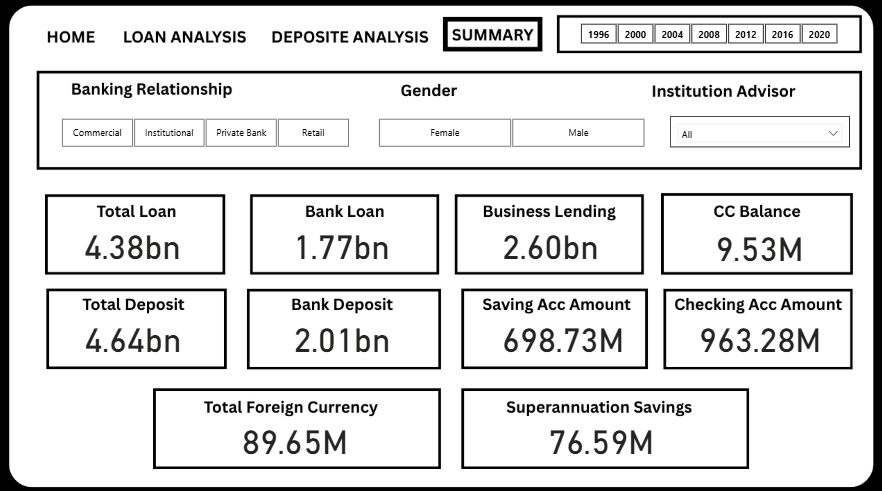

What the dashboard file says about the page in this screenshot:
{"tool":"powerbi","page":{"name":"Summary","canvas":[1280,720],"ordinal":3},"visuals":[{"type":"slicer","fields":{"Values":["Banking Relationship.Banking Relationship"]},"box":[70.6,169.9,462.5,53.8],"z":0},{"type":"slicer","fields":{"Values":["Gender.Gender"]},"box":[526.5,169.9,432.3,53.8],"z":1000},{"type":"slicer","fields":{"Values":["Investment Advisor.Investment Advisor"]},"box":[972.2,173.2,259,45.4],"z":2000},{"type":"slicer","fields":{"Values":["Banking_Clients.Joined Bank.Variation.Date Hierarchy.Year"]},"box":[817.5,33.6,418.8,42],"z":3000},{"type":"card","fields":{"Values":["Banking_Clients.Total_Loan"]},"box":[47.1,269.1,301.1,173.2],"z":4000},{"type":"card","fields":{"Values":["Sum(Banking_Clients.Bank Loans)"]},"box":[348.2,269.1,301.1,173.2],"z":5000},{"type":"card","fields":{"Values":["Sum(Banking_Clients.Business Lending)"]},"box":[649.3,269.1,301.1,173.2],"z":6000},{"type":"card","fields":{"Values":["Sum(Banking_Clients.Credit Card Balance)"]},"box":[950.3,272.5,301.1,173.2],"z":7000},{"type":"card","fields":{"Values":["Banking_Clients.Total_deposit"]},"box":[69,407,259,164.8],"z":8000},{"type":"card","fields":{"Values":["Sum(Banking_Clients.Bank Deposits)"]},"box":[370,407,259,164.8],"z":9000},{"type":"card","fields":{"Values":["Sum(Banking_Clients.Saving Accounts)"]},"box":[687.9,407,259,164.8],"z":10000},{"type":"card","fields":{"Values":["Sum(Banking_Clients.Checking Accounts)"]},"box":[972.2,407,259,164.8],"z":11000},{"type":"card","fields":{"Values":["Sum(Banking_Clients.Foreign Currency Account)"]},"box":[302.8,555.1,259,164.8],"z":12000},{"type":"card","fields":{"Values":["Sum(Banking_Clients.Superannuation Savings)"]},"box":[743.4,555.1,259,164.8],"z":13000},{"type":"actionButton","box":[52.1,21.9,117.7,65.6],"z":14000},{"type":"actionButton","box":[185,33.6,185,65.6],"z":15000},{"type":"actionButton","box":[395.3,33.6,233.8,53.8],"z":16000}]}

Visuals, with their boxes in screenshot pixels (x1, y1, x2, y2), scaled from the page's 1280x720 canvas onto the 882x491 screenshot:
slicer - Banking Relationship.Banking Relationship: BBox(49, 116, 367, 153)
slicer - Gender.Gender: BBox(363, 116, 661, 153)
slicer - Investment Advisor.Investment Advisor: BBox(670, 118, 848, 149)
slicer - Banking_Clients.Joined Bank.Variation.Date Hierarchy.Year: BBox(563, 23, 852, 52)
card - Banking_Clients.Total_Loan: BBox(32, 184, 240, 302)
card - Sum(Banking_Clients.Bank Loans): BBox(240, 184, 447, 302)
card - Sum(Banking_Clients.Business Lending): BBox(447, 184, 655, 302)
card - Sum(Banking_Clients.Credit Card Balance): BBox(655, 186, 862, 304)
card - Banking_Clients.Total_deposit: BBox(48, 278, 226, 390)
card - Sum(Banking_Clients.Bank Deposits): BBox(255, 278, 433, 390)
card - Sum(Banking_Clients.Saving Accounts): BBox(474, 278, 652, 390)
card - Sum(Banking_Clients.Checking Accounts): BBox(670, 278, 848, 390)
card - Sum(Banking_Clients.Foreign Currency Account): BBox(209, 379, 387, 490)
card - Sum(Banking_Clients.Superannuation Savings): BBox(512, 379, 691, 490)
actionButton: BBox(36, 15, 117, 60)
actionButton: BBox(127, 23, 255, 68)
actionButton: BBox(272, 23, 433, 60)
